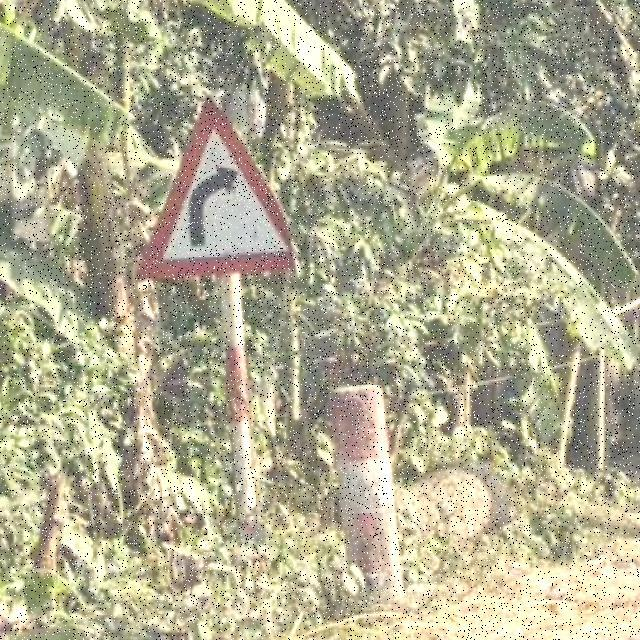Right-turn: (134, 78, 299, 304)
